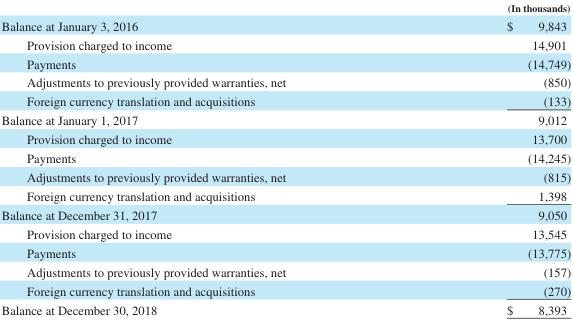table: (0, 1, 570, 316)
table column: (0, 1, 395, 316), (395, 1, 570, 316)
table column header: (0, 1, 570, 15)
table row: (0, 15, 570, 34), (0, 34, 570, 53), (0, 53, 570, 72), (0, 72, 570, 91), (0, 91, 570, 110), (0, 110, 570, 129), (0, 129, 570, 148), (0, 148, 570, 167), (0, 167, 570, 186), (0, 186, 570, 205), (0, 205, 570, 224), (0, 224, 570, 243), (0, 243, 570, 262), (0, 262, 570, 281), (0, 281, 570, 299), (0, 299, 570, 316), (0, 1, 570, 15)
